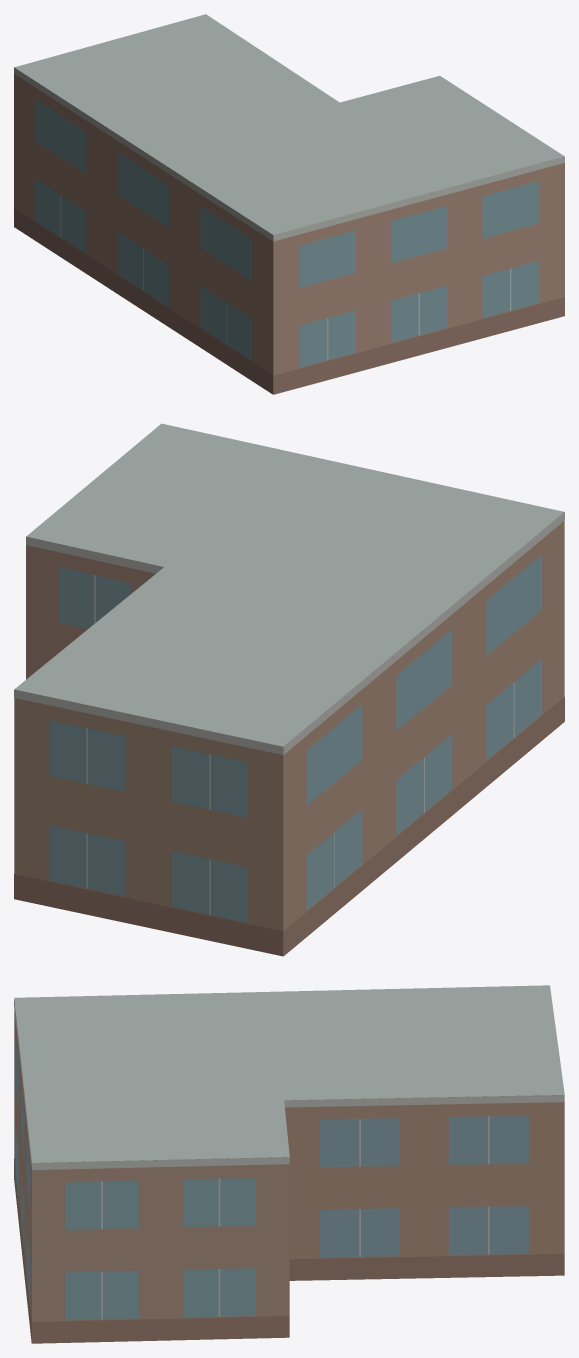
File: survey-upis-32879829.glb
The picture shows the model from 3 angles, top to bottom: view 1: azimuth 30°, elevation 25°; view 2: azimuth 150°, elevation 25°; view 3: azimuth 270°, elevation 25°; orthographic projection. The views are drawn at different scales.
Parts seen in each view (by area): view 1: survey-upis-32879829.tmp; view 2: survey-upis-32879829.tmp; view 3: survey-upis-32879829.tmp.
Boxes of the visible parts, left/top/right/bottom form: survey-upis-32879829.tmp: left=14, top=14, right=564, bottom=394; survey-upis-32879829.tmp: left=14, top=423, right=564, bottom=956; survey-upis-32879829.tmp: left=14, top=985, right=564, bottom=1343.
Size of the model in its own units: 12.88 by 6.1 by 16.86.
